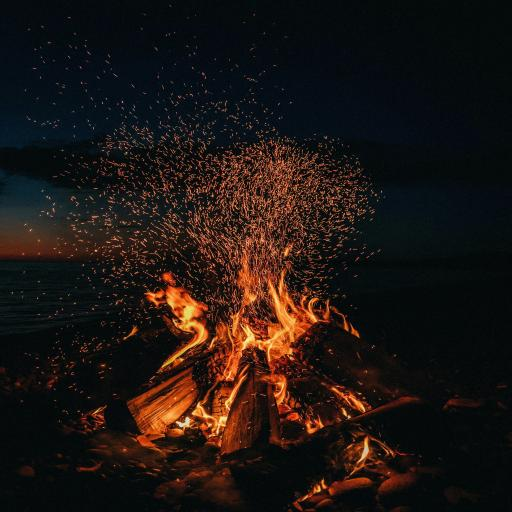campfire: (40, 114, 484, 500)
